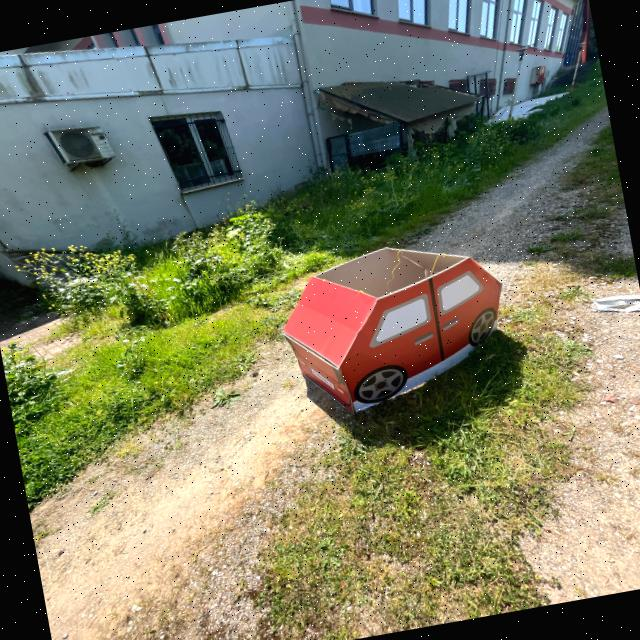red_car: (264, 220, 553, 433)
